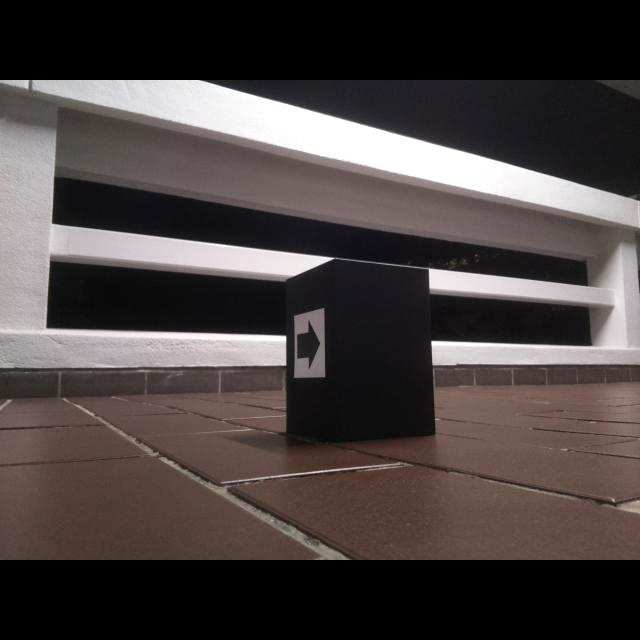RIGHT: (297, 321, 321, 369)
